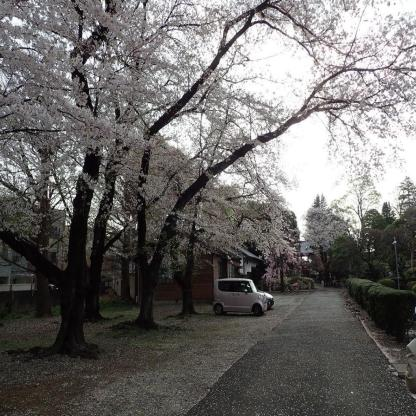Someiyoshino: (3, 1, 301, 253), (303, 1, 415, 182), (304, 205, 348, 252)
